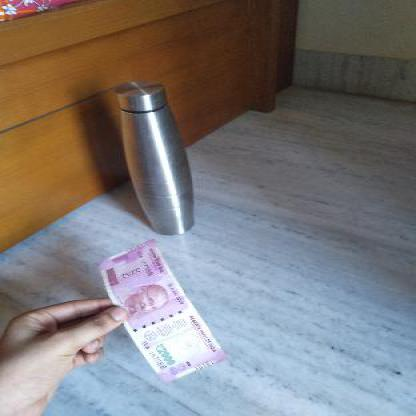New2000Front: (92, 239, 227, 385)
